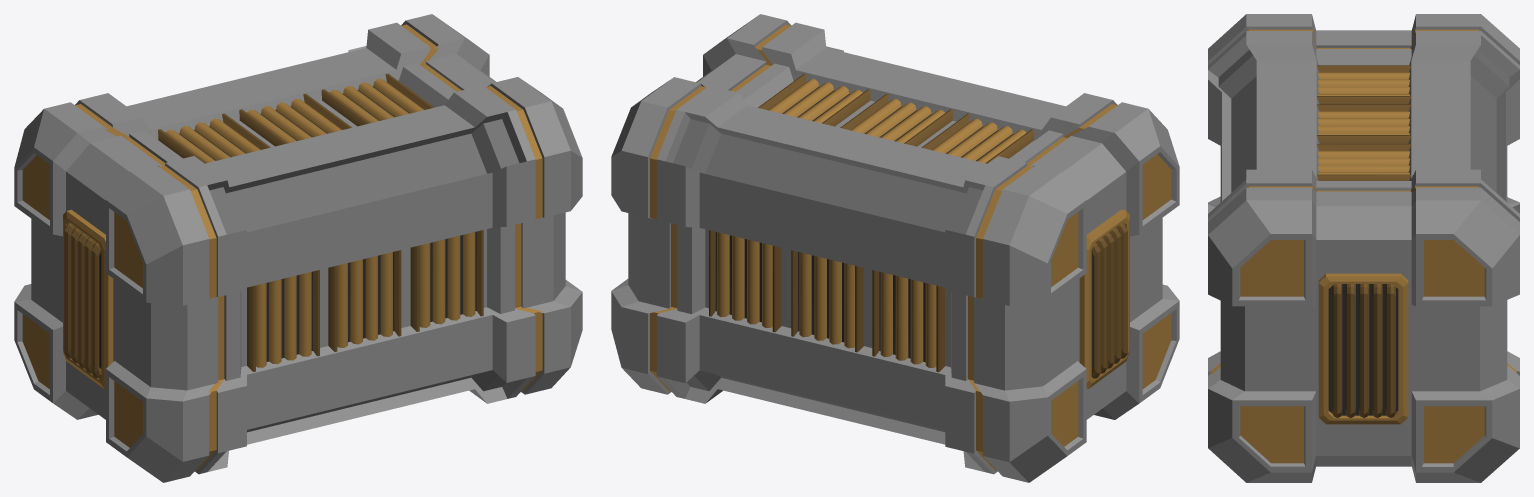
File: cratelong.glb
The picture shows the model from 3 angles, left to right: view 1: azimuth 30°, elevation 25°; view 2: azimuth 150°, elevation 25°; view 3: azimuth 270°, elevation 25°; orthographic projection.
Parts seen in each view (by area): view 1: Props_CrateLong; view 2: Props_CrateLong; view 3: Props_CrateLong.
Part boxes in pixels (<box>): Props_CrateLong: <box>14,14,582,482</box>; Props_CrateLong: <box>611,14,1179,482</box>; Props_CrateLong: <box>1208,14,1519,482</box>.
Bounding box in the file's own units: 1.23 × 0.7698 × 0.7698.
